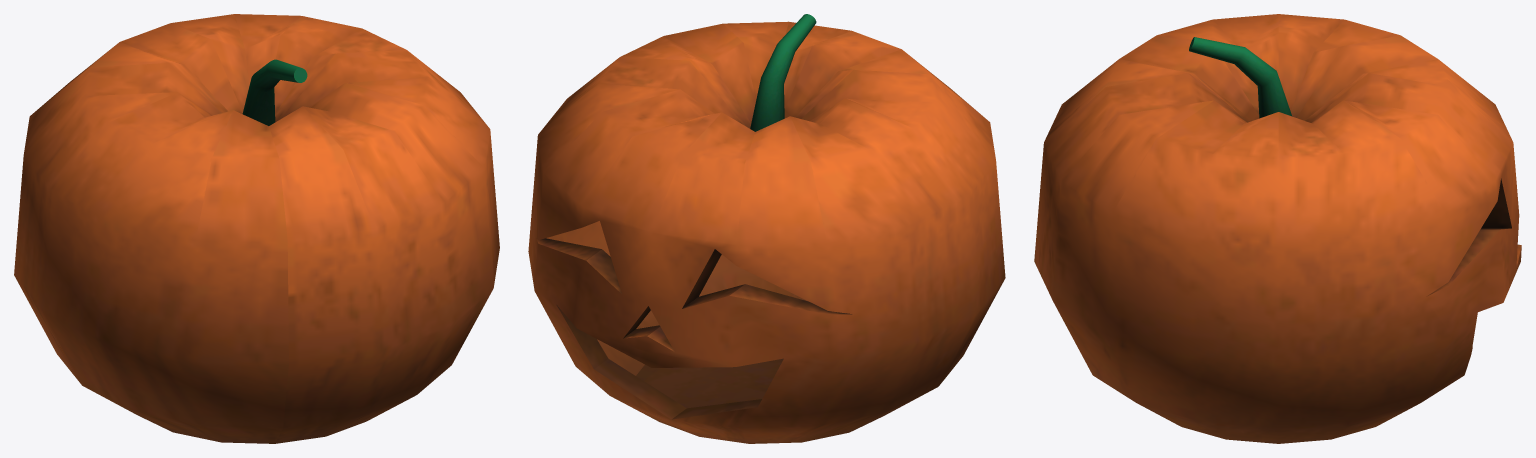
Rendered from furni_0200419.FBX.
3 views of the same model, side by side, from view 1: azimuth 30°, elevation 25°; view 2: azimuth 150°, elevation 25°; view 3: azimuth 270°, elevation 25° (orthographic).
Parts seen in each view (by area): view 1: furni_0200419; view 2: furni_0200419; view 3: furni_0200419.
Boxes of the visible parts, x1,y1,x2,y2 form: furni_0200419: [14, 14, 499, 443]; furni_0200419: [528, 14, 1005, 443]; furni_0200419: [1034, 14, 1521, 443].
Size of the model in its own units: 29.64 by 23.29 by 29.56.
